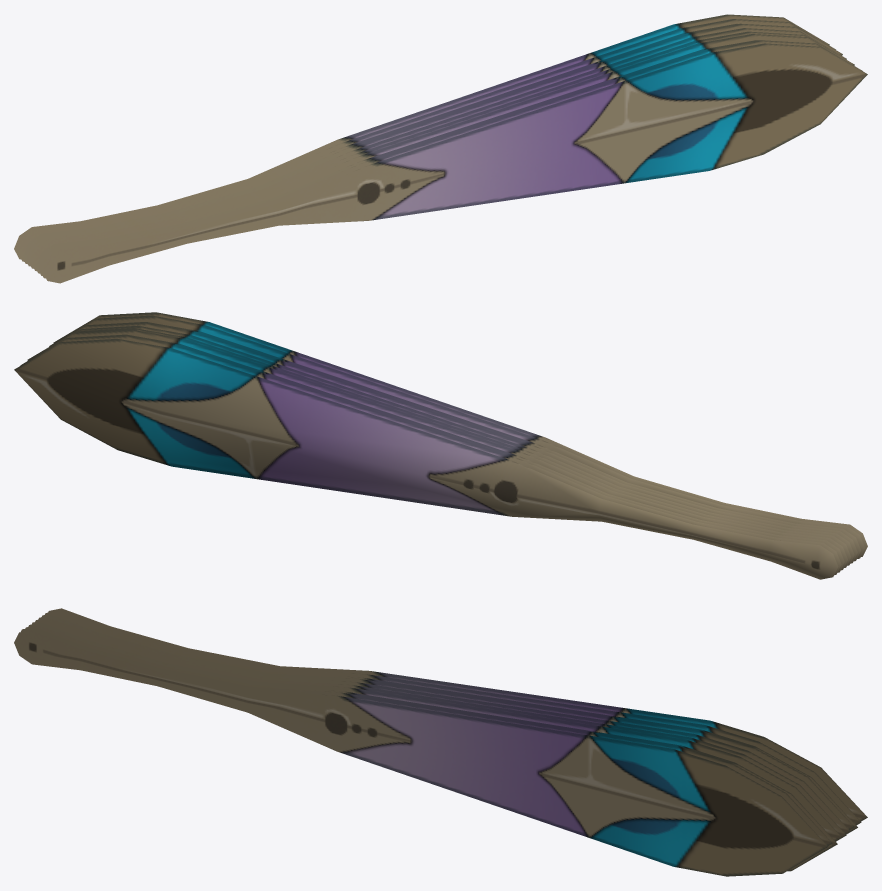
File: shanzi_bi.FBX
The picture shows the model from 3 angles, top to bottom: view 1: azimuth 30°, elevation 25°; view 2: azimuth 150°, elevation 25°; view 3: azimuth 330°, elevation 25°; orthographic projection.
Parts seen in each view (by area): view 1: shanzi_bi; view 2: shanzi_bi; view 3: shanzi_bi.
Part boxes in pixels (x1=…): shanzi_bi: x1=14, y1=14, x2=867, y2=283; shanzi_bi: x1=14, y1=312, x2=867, y2=579; shanzi_bi: x1=14, y1=608, x2=867, y2=876.
Size of the model in its own units: 28.02 by 4.01 by 2.76.
